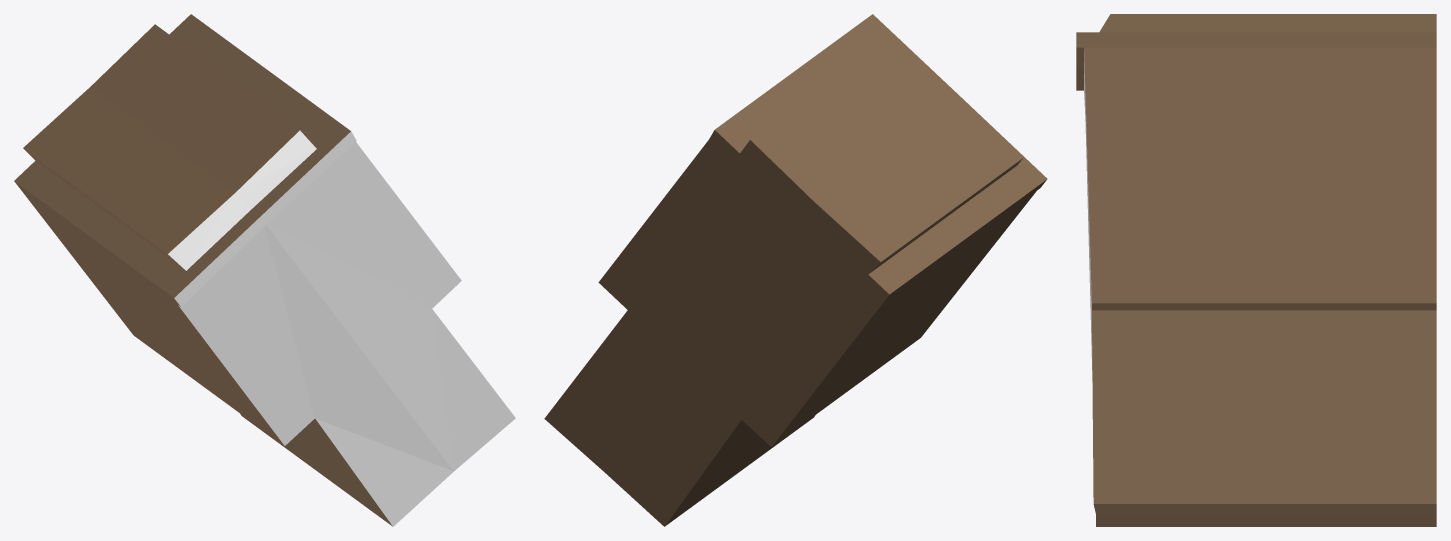
3 renders of one model, left to right at view 1: azimuth 30°, elevation 25°; view 2: azimuth 150°, elevation 25°; view 3: azimuth 270°, elevation 25°, orthographic. The views are drawn at different scales.
Parts seen in each view (by area): view 1: City_PC-05347; view 2: City_PC-05347; view 3: City_PC-05347.
Part boxes in pixels (left/top/right/bottom): City_PC-05347: left=14, top=14, right=515, bottom=526; City_PC-05347: left=544, top=14, right=1047, bottom=526; City_PC-05347: left=1076, top=14, right=1436, bottom=526.
Size of the model in its own units: 1812 by 2054 by 1438.
